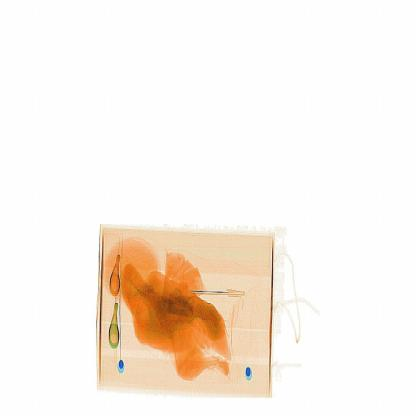wrench: (181, 277, 252, 305)
